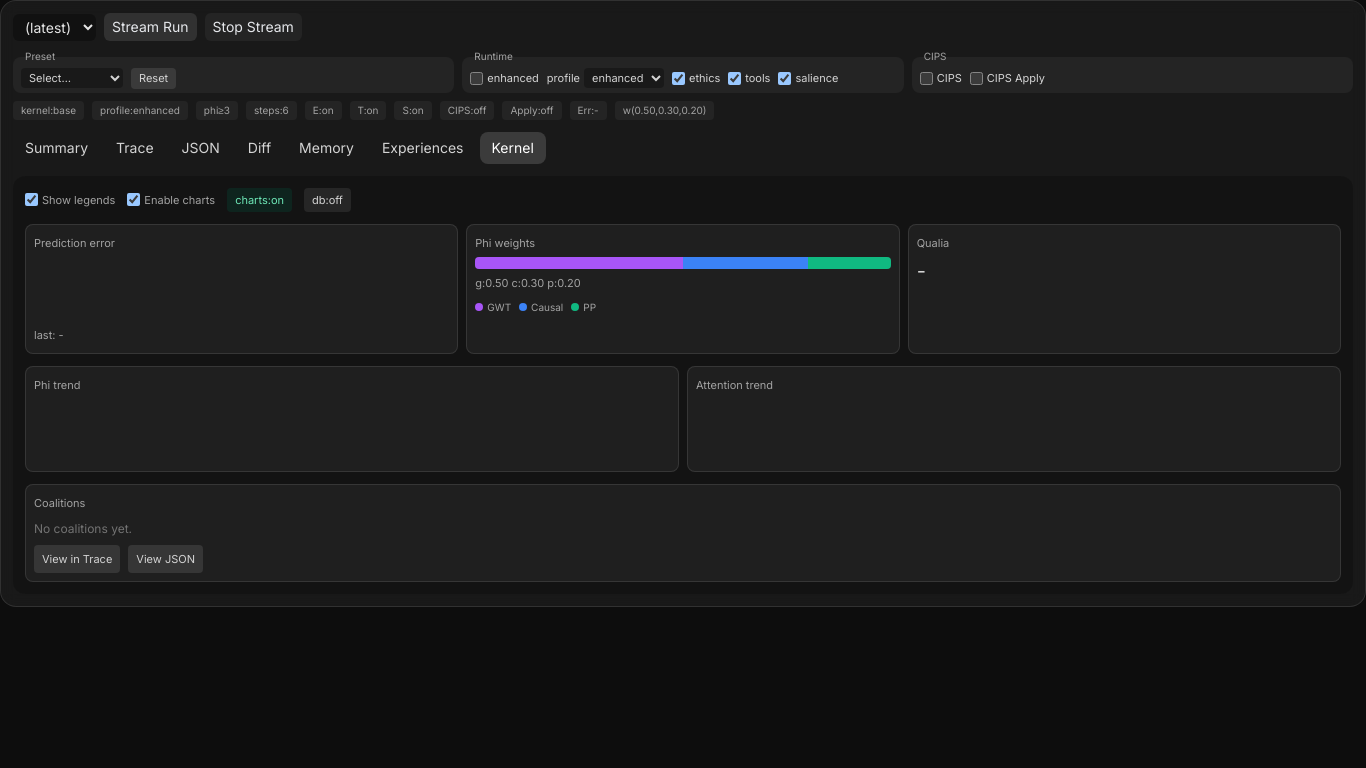
Scenario: Kernel tab charts toggle › shows and hides charts with toggle
Click the button with test id "right-panel-tab-kernel" at [513, 148], box top-left (480, 132), bottom-right (546, 164)
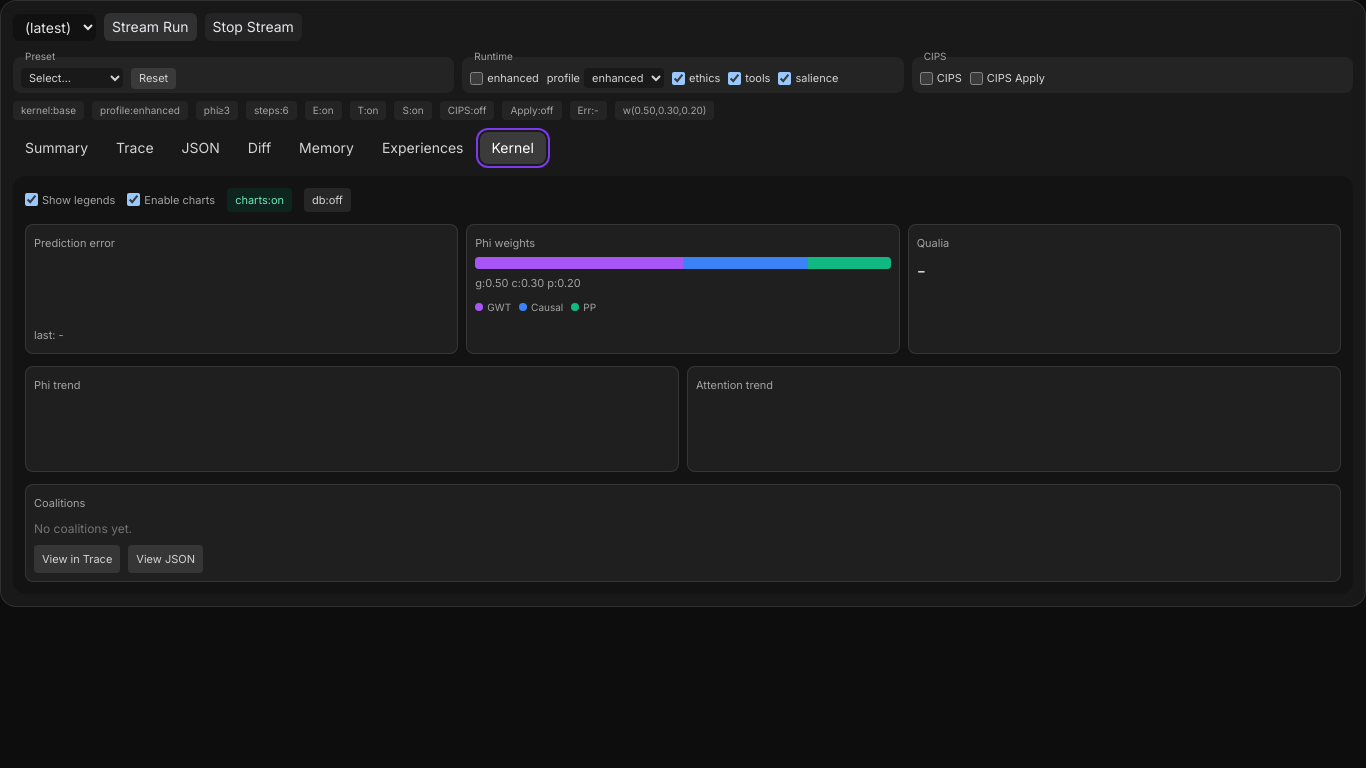
Expected: the text "charts:on" is shown, top-left (227, 188), bottom-right (292, 212)
Expected: the text "Phi trend" is shown, top-left (34, 378), bottom-right (80, 392)
Disable charts via checkbox
Click the checkbox labelled "Enable charts" at [134, 200], box top-left (127, 193), bottom-right (140, 206)
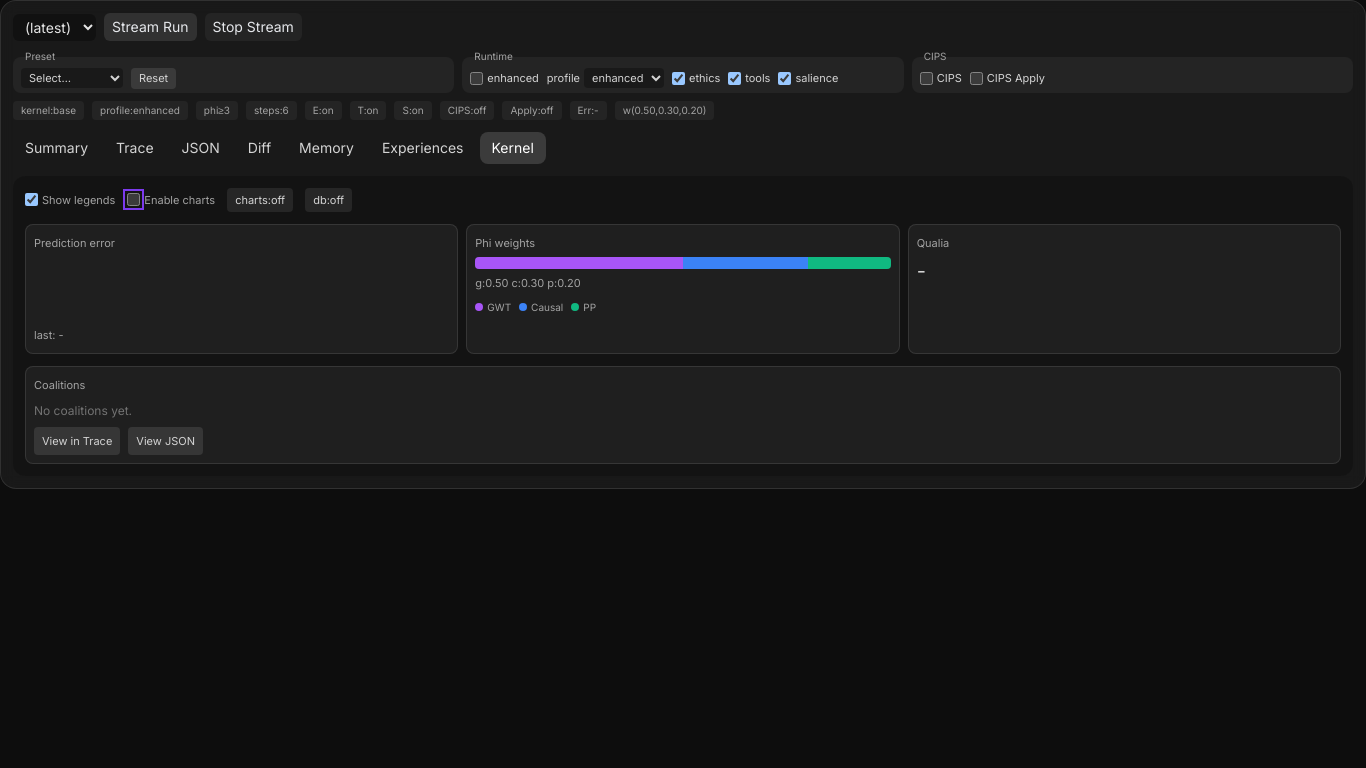
Now the text "charts:off" is shown, box top-left (227, 188), bottom-right (293, 212)
Now the text "Phi trend" is gone
